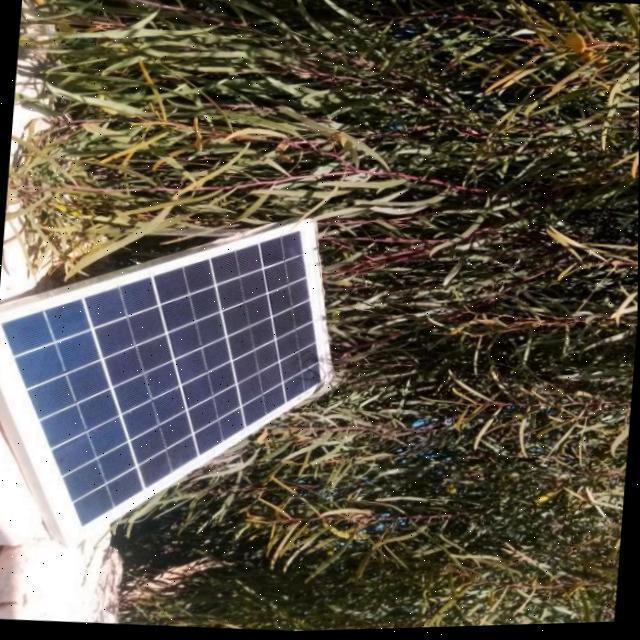Normal Solar Panel: (0, 200, 343, 562)
